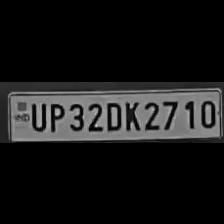0: (197, 96, 217, 128)
1: (180, 97, 196, 129)
2: (84, 98, 104, 132), (140, 97, 160, 131)
3: (64, 99, 84, 131)
7: (158, 96, 178, 130)
D: (102, 97, 122, 130)
K: (123, 97, 141, 130)
P: (46, 98, 64, 132)
U: (28, 99, 44, 131)
